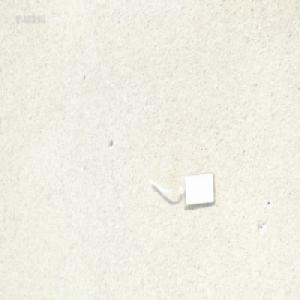LuggageTag: (146, 170, 214, 209)
